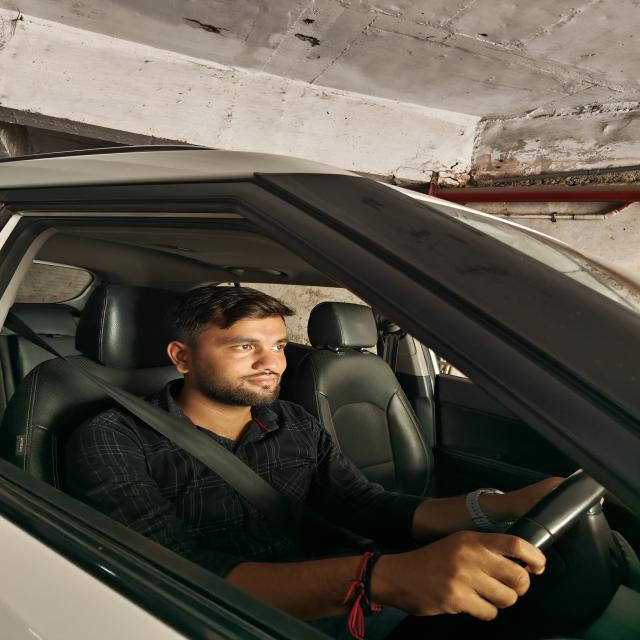seatbelt: (8, 305, 369, 559)
